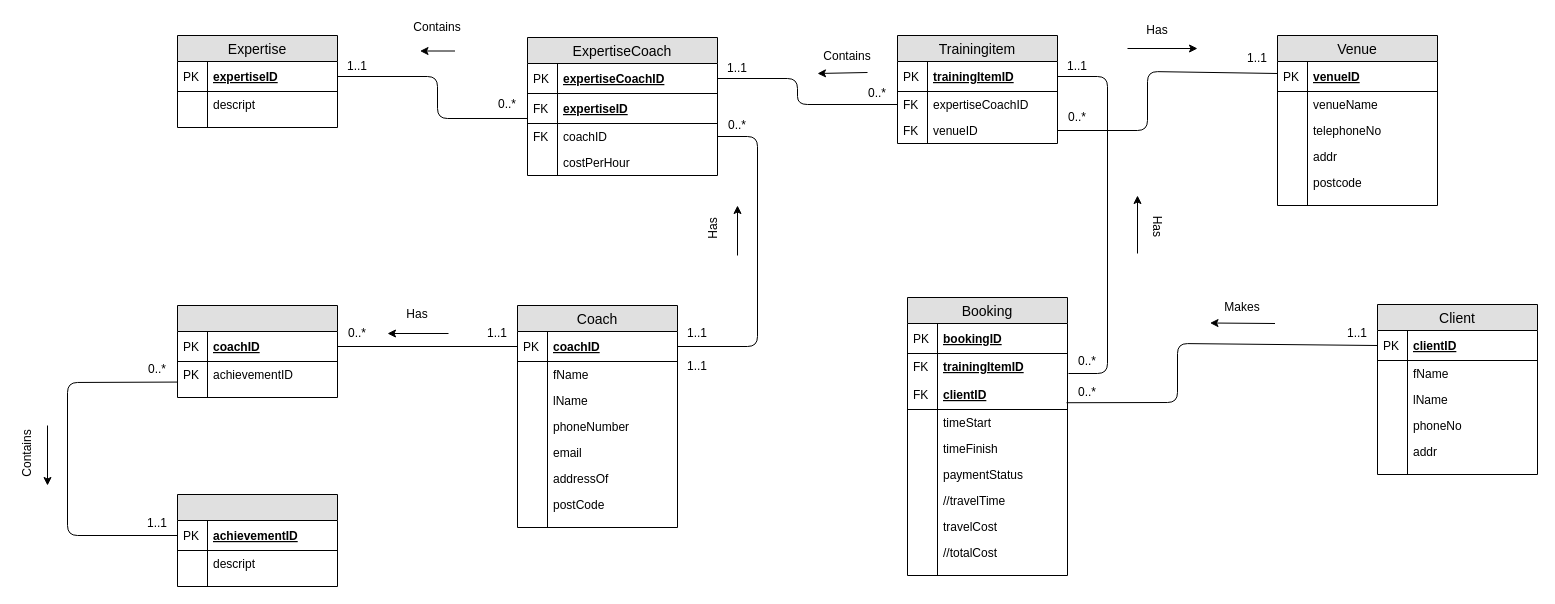
This 1555x604 diagram has some shape labels left out. Here are the shapes that lost their labels. From the top down, the box of each, then its label:
(176, 304, 338, 398): CoachAchievements
(176, 494, 338, 586): Achievements
